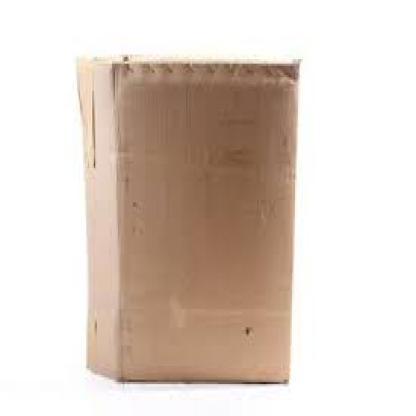CARDBOARD: (74, 57, 298, 382)
